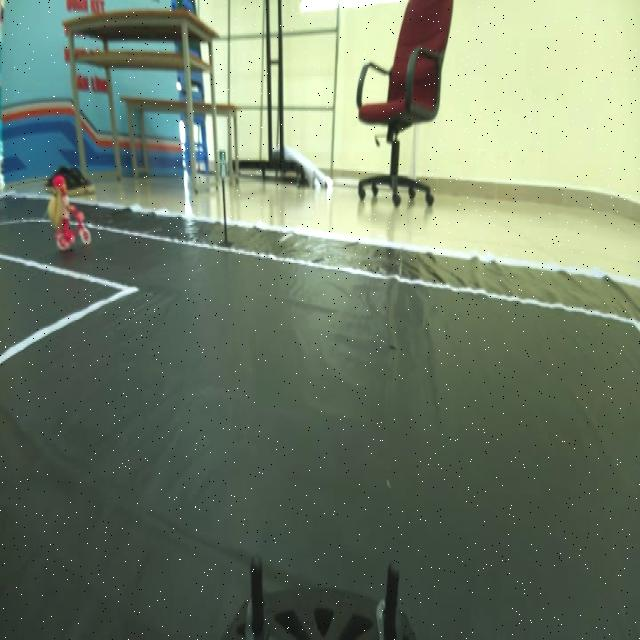pedestrian: (37, 164, 95, 257)
